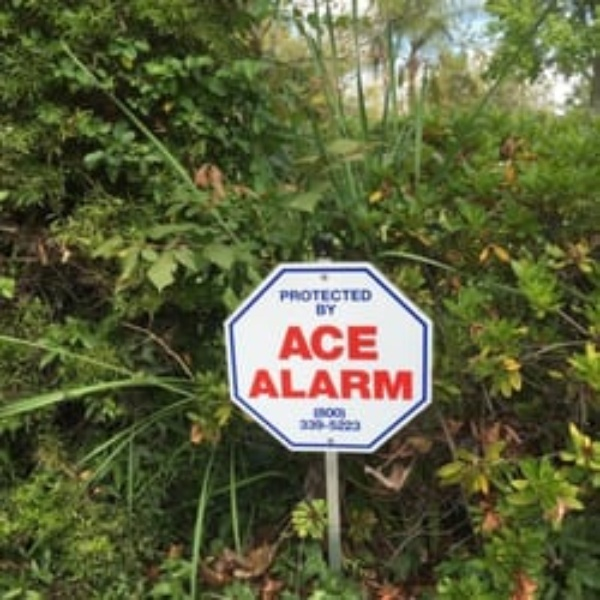text: (289, 322, 304, 361), (305, 322, 320, 361), (321, 322, 336, 361), (337, 322, 352, 361), (353, 322, 368, 361), (257, 368, 272, 401), (273, 368, 288, 401), (289, 368, 304, 401), (305, 368, 320, 401), (321, 368, 336, 401), (337, 368, 352, 401), (353, 368, 368, 401), (369, 368, 384, 401), (385, 368, 400, 401), (369, 322, 380, 361), (401, 368, 413, 401), (289, 286, 304, 303), (305, 286, 320, 303), (321, 286, 336, 303), (337, 286, 352, 303), (353, 286, 368, 303), (321, 303, 337, 317), (321, 406, 336, 418), (305, 418, 320, 430), (321, 418, 336, 430), (337, 418, 352, 430), (279, 286, 288, 303), (337, 406, 349, 418), (253, 368, 256, 401), (353, 418, 361, 430), (313, 406, 320, 418), (286, 322, 288, 361), (298, 418, 304, 430), (315, 303, 320, 317), (369, 286, 373, 303)
